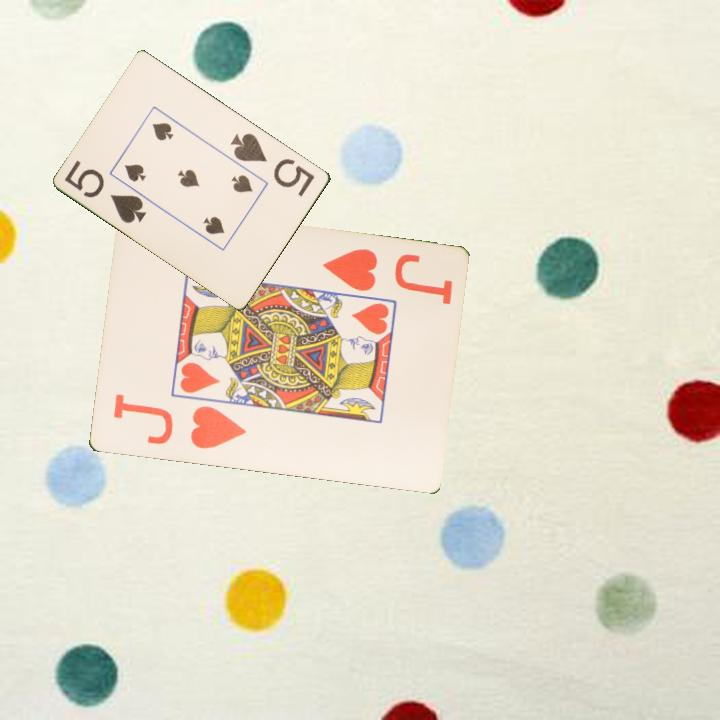5s: (227, 129, 318, 199), (61, 157, 150, 226)
Jh: (109, 391, 249, 452), (318, 245, 380, 295)
